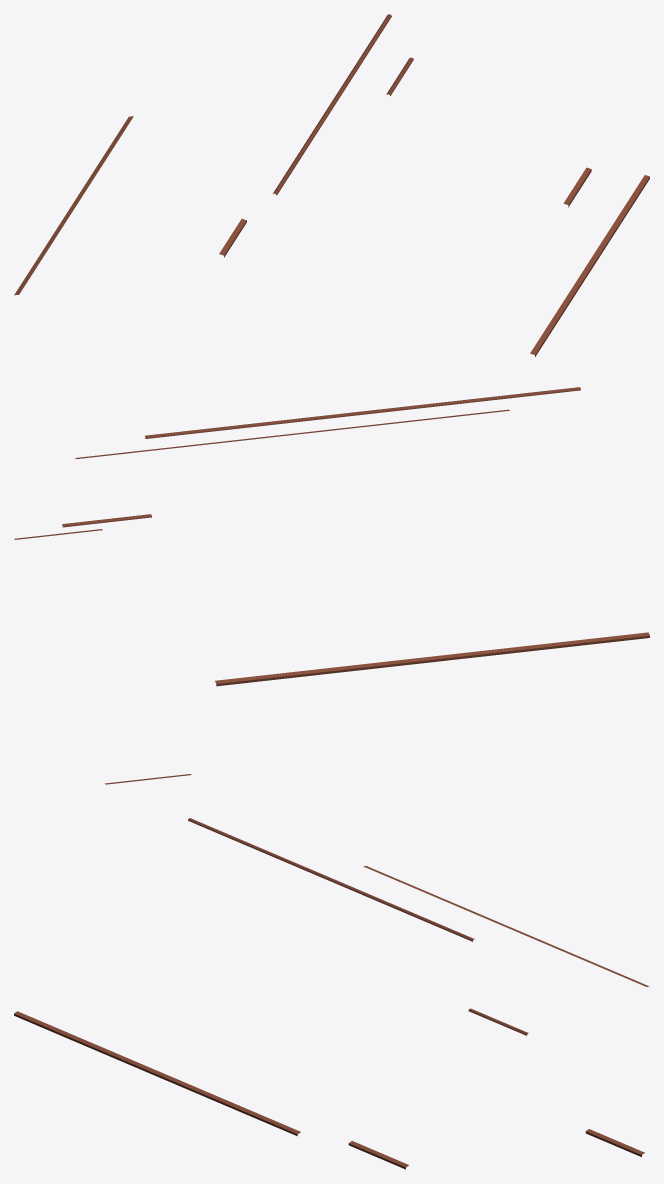
The picture shows the model from 3 angles, top to bottom: view 1: azimuth 30°, elevation 25°; view 2: azimuth 150°, elevation 25°; view 3: azimuth 270°, elevation 25°; orthographic projection. The views are drawn at different scales.
Parts seen in each view (by area): view 1: detail; view 2: detail; view 3: detail.
Part boxes in pixels (x1=…): detail: x1=14, y1=14, x2=649, y2=356; detail: x1=14, y1=387, x2=649, y2=784; detail: x1=14, y1=818, x2=649, y2=1169.
Bounding box in the file's own units: 41.63 × 17.53 × 41.62.
